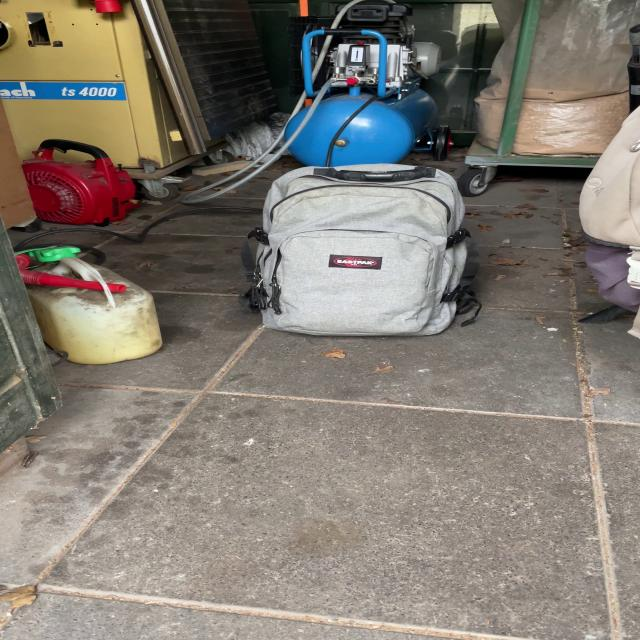backpack: (230, 154, 492, 345)
